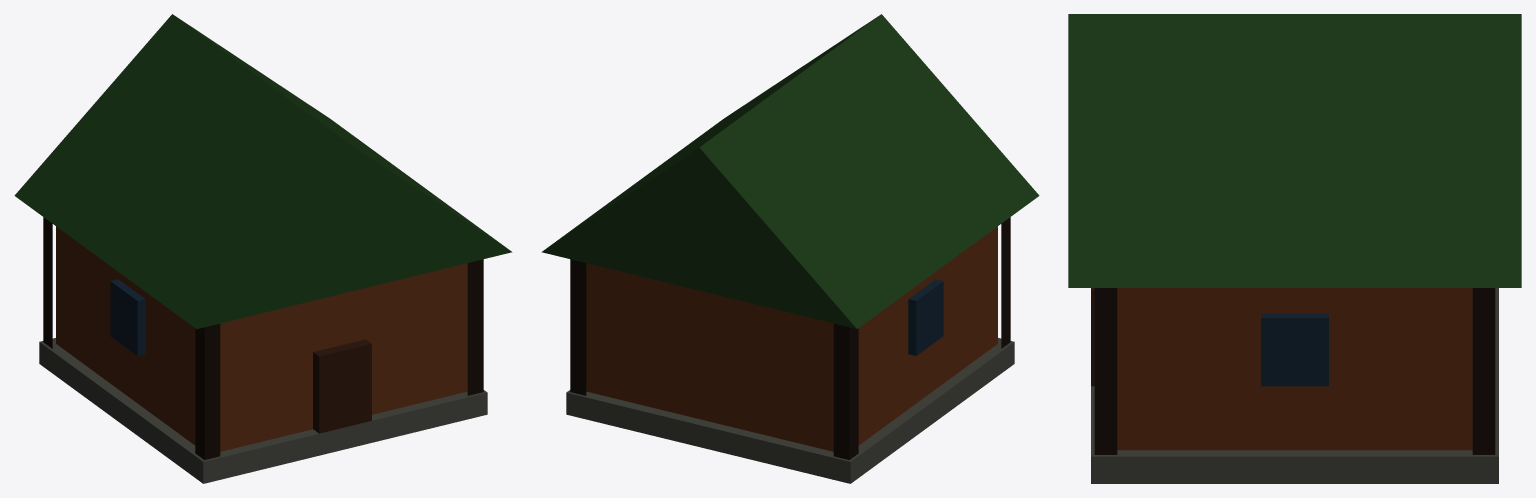
Rendered from house_t1_v2.glb.
3 views of the same model, side by side, from view 1: azimuth 30°, elevation 25°; view 2: azimuth 150°, elevation 25°; view 3: azimuth 270°, elevation 25° (orthographic). The views are drawn at different scales.
Parts seen in each view (by area): view 1: house_t1_v2; view 2: house_t1_v2; view 3: house_t1_v2.
Boxes of the visible parts, <box> form: house_t1_v2: <box>14,14,512,483</box>; house_t1_v2: <box>541,14,1039,483</box>; house_t1_v2: <box>1068,14,1521,483</box>.
Size of the model in its own units: 0.6 by 0.56 by 0.6.
1 material, 1 textured.
